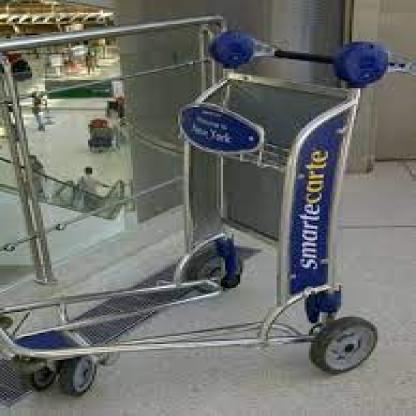airport-trolley: (0, 29, 390, 388)
